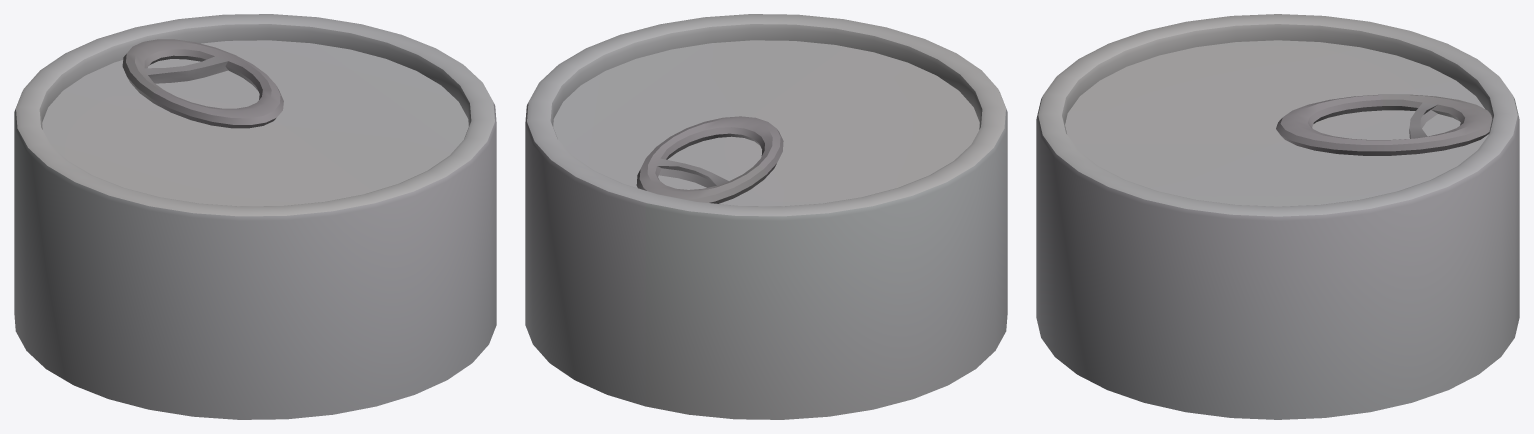
The model's file is can1.fbx.
The picture shows the model from 3 angles, left to right: view 1: azimuth 30°, elevation 25°; view 2: azimuth 150°, elevation 25°; view 3: azimuth 270°, elevation 25°; orthographic projection.
Visible parts, largest first — view 1: can1; view 2: can1; view 3: can1.
Boxes of the visible parts, x1=… form: can1: x1=14, y1=14, x2=496, y2=419; can1: x1=525, y1=14, x2=1007, y2=419; can1: x1=1036, y1=14, x2=1519, y2=419.
Bounding box in the file's own units: 1332 × 621 × 1332.
